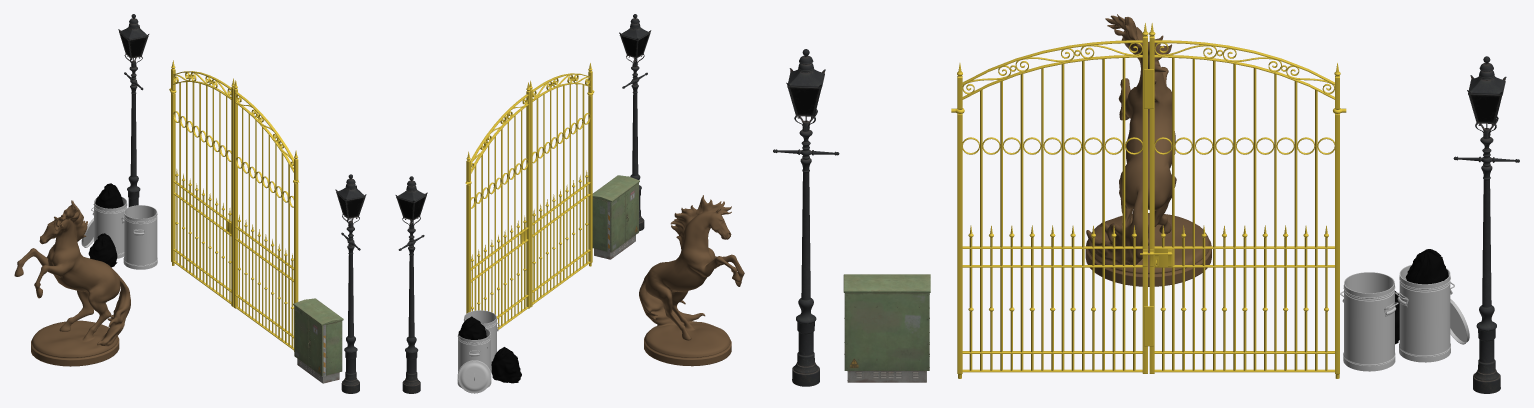
The picture shows the model from 3 angles, left to right: view 1: azimuth 30°, elevation 25°; view 2: azimuth 150°, elevation 25°; view 3: azimuth 270°, elevation 25°; orthographic projection. The views are drawn at different scales.
Parts seen in each view (by area): view 1: horse_statue_01, large_iron_gate_left_door, large_iron_gate_right_door, utility_box_02, street_lamp_01, metal_trash_can.001, street_lamp_01.001, metal_trash_can, trashbag, trashbag.001; view 2: horse_statue_01, large_iron_gate_left_door, large_iron_gate_right_door, utility_box_02, street_lamp_01.001, street_lamp_01, metal_trash_can, metal_trash_can_lid, trashbag, metal_trash_can.001, trashbag.001; view 3: large_iron_gate_right_door, large_iron_gate_left_door, horse_statue_01, utility_box_02, street_lamp_01, street_lamp_01.001, metal_trash_can.001, metal_trash_can, trashbag.001.
Boxes of the visible parts, x1,y1,x2,y2 form: horse_statue_01: (14, 200, 130, 366); large_iron_gate_left_door: (233, 80, 298, 351); large_iron_gate_right_door: (171, 60, 234, 306); utility_box_02: (293, 298, 343, 383); street_lamp_01: (335, 174, 366, 393); metal_trash_can.001: (123, 205, 157, 269); street_lamp_01.001: (118, 14, 149, 206); metal_trash_can: (92, 196, 127, 258); trashbag: (88, 233, 117, 267); trashbag.001: (95, 183, 123, 208); horse_statue_01: (639, 195, 744, 366); large_iron_gate_left_door: (529, 63, 592, 306); large_iron_gate_right_door: (466, 82, 530, 329); utility_box_02: (592, 175, 639, 259); street_lamp_01.001: (395, 176, 427, 393); street_lamp_01: (619, 14, 651, 231); metal_trash_can: (457, 328, 491, 387); metal_trash_can_lid: (457, 360, 491, 393); trashbag: (491, 347, 521, 383); metal_trash_can.001: (464, 310, 498, 372); trashbag.001: (458, 316, 487, 347); large_iron_gate_right_door: (1144, 23, 1340, 378); large_iron_gate_left_door: (957, 23, 1148, 378); horse_statue_01: (1085, 14, 1211, 286); utility_box_02: (843, 274, 930, 382); street_lamp_01: (773, 49, 839, 386); street_lamp_01.001: (1453, 56, 1519, 393); metal_trash_can.001: (1342, 272, 1396, 371); metal_trash_can: (1397, 265, 1452, 362); trashbag.001: (1405, 249, 1448, 284).
Size of the model in its own units: 4.45 by 4.19 by 7.91.
Materials: 9 (4 with a texture image).
